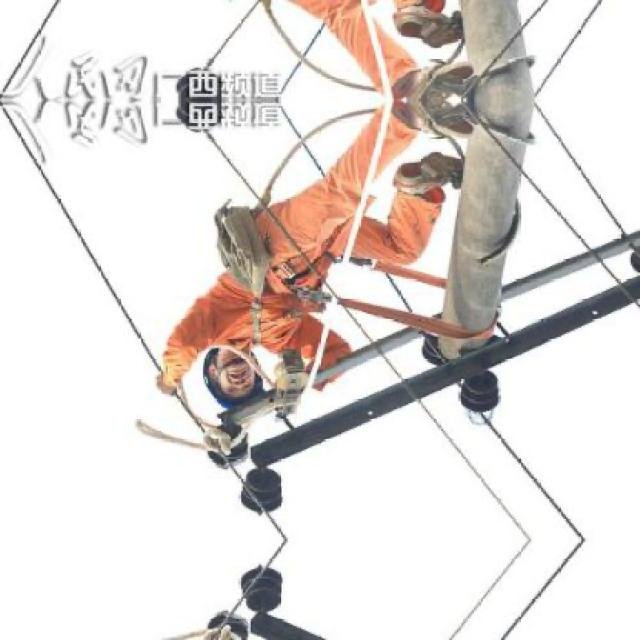con casco: (175, 326, 292, 432)
